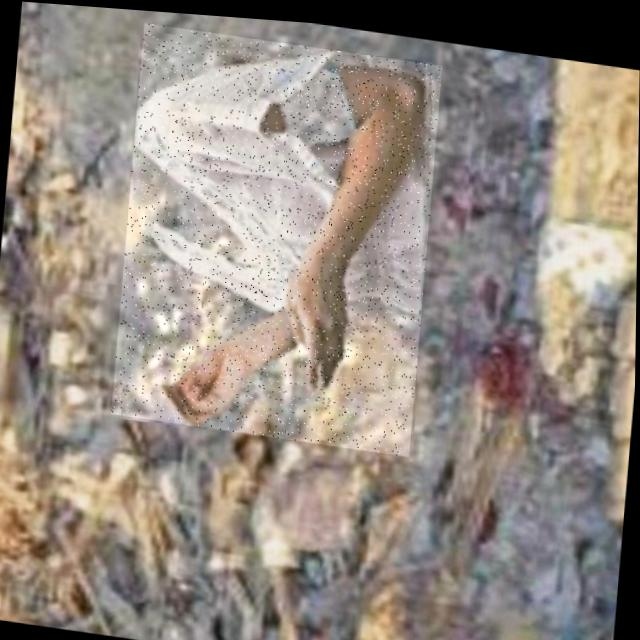Person in Rubble: (112, 18, 442, 451)
